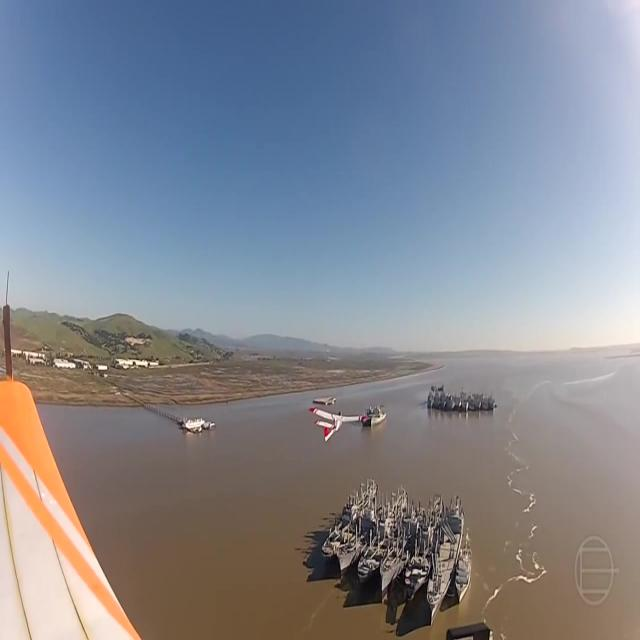iha: (307, 404, 370, 442)
